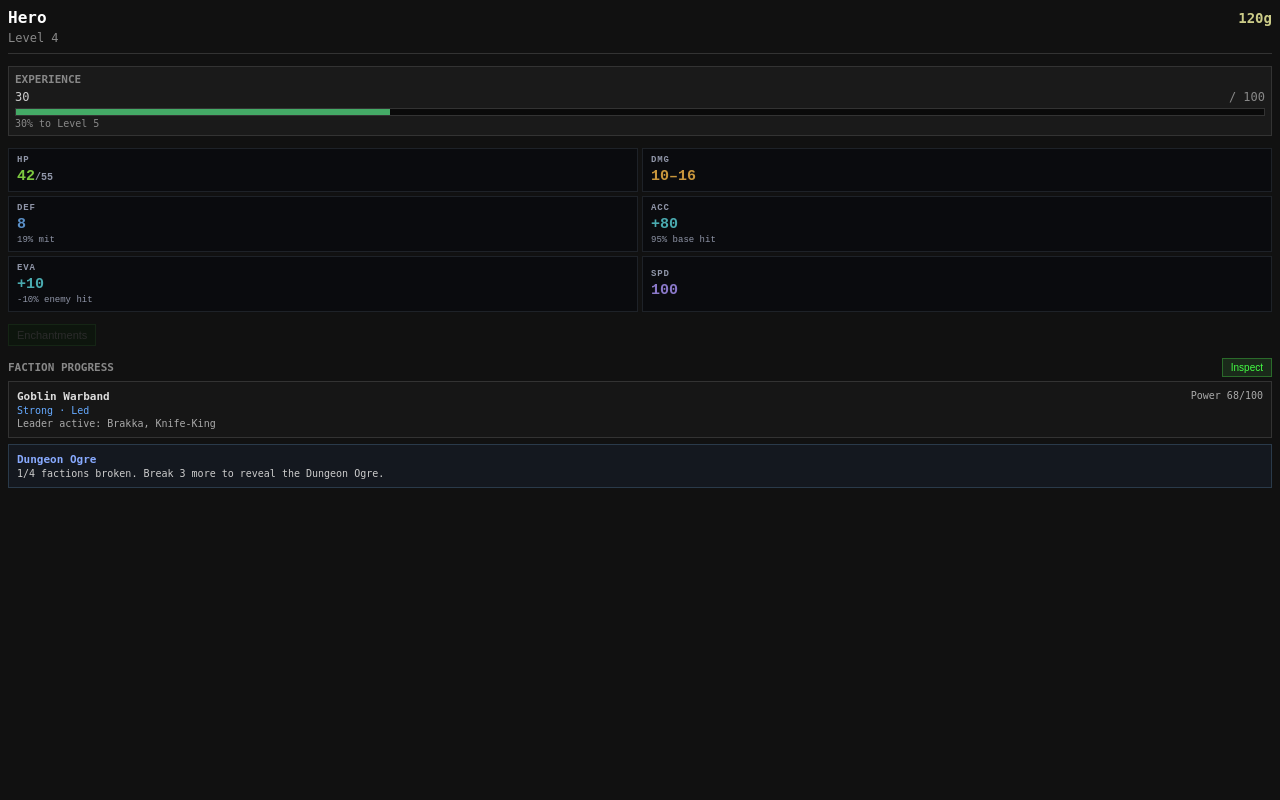
Scenario: CharacterScreen faction progress › closes an opened stat detail panel from the close button
Click the button titled "Click to see HP breakdown": click(23, 160) [8,148,638,192]
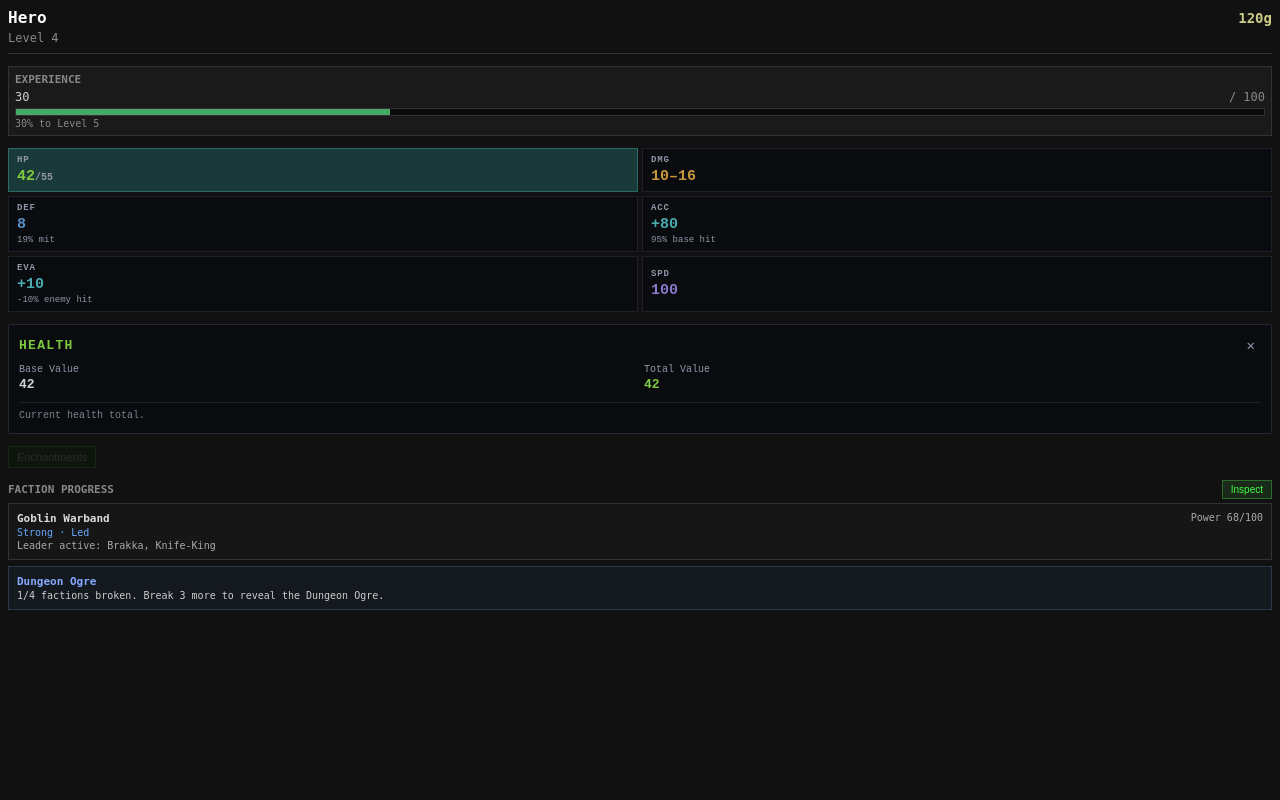
Now the text "Base Value" is shown, box [19,364,79,375]
Click the button named "Close": click(1251, 346) [1241,335,1261,356]
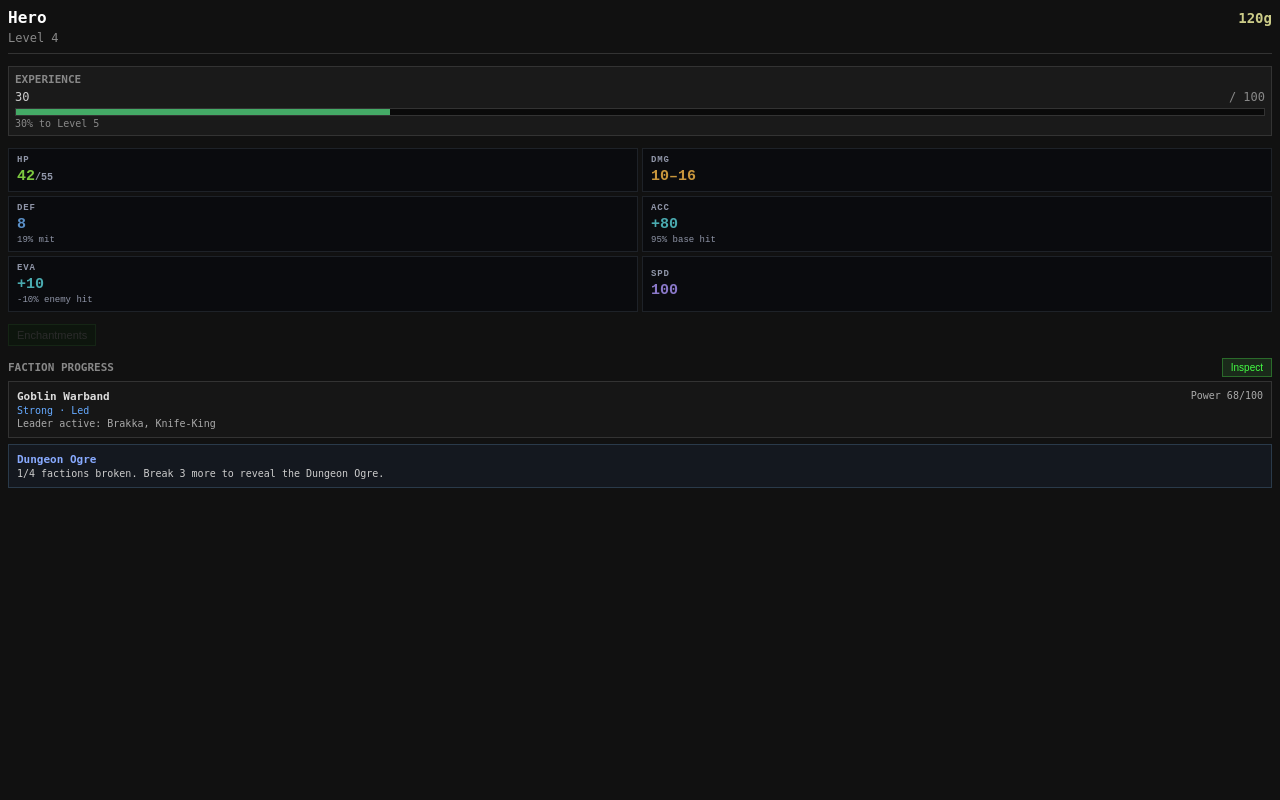
Expected: the text "FACTION PROGRESS" is shown, [8,361,114,374]
Now the text "Base Value" is gone
